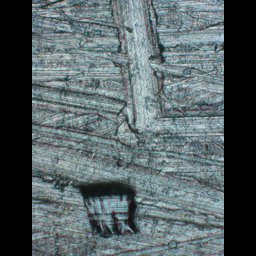d: (109, 0, 172, 146), (70, 171, 143, 238), (124, 104, 223, 142)
